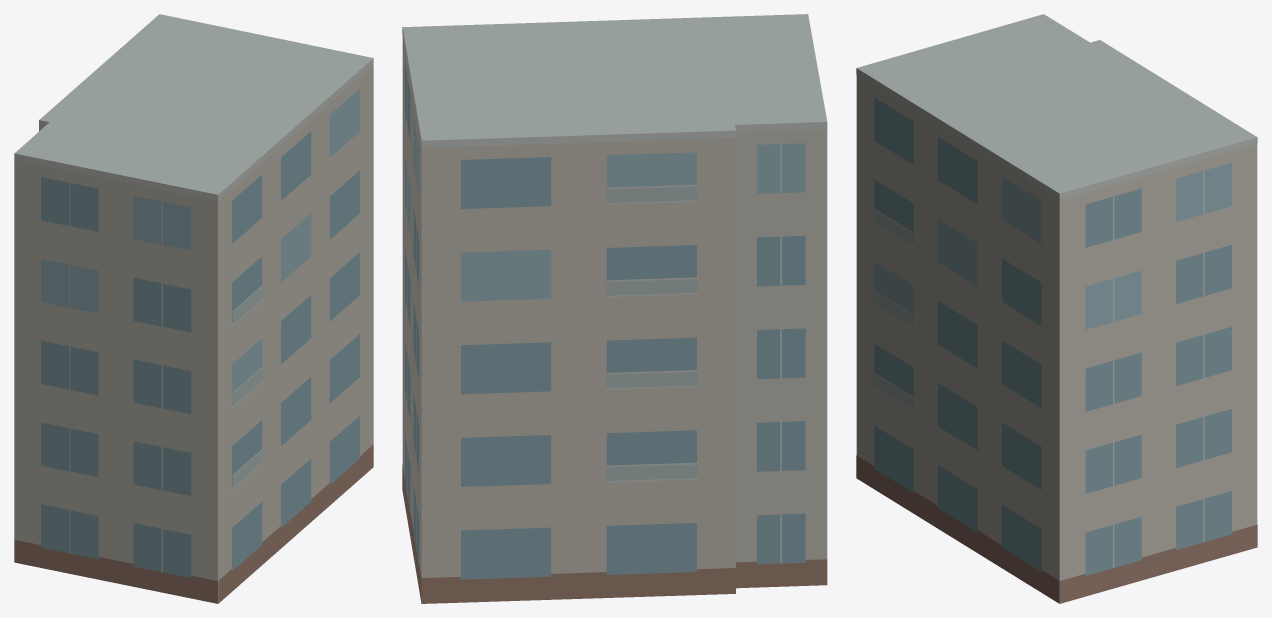
Rendered from survey-upis-32591514.glb.
The picture shows the model from 3 angles, left to right: view 1: azimuth 30°, elevation 25°; view 2: azimuth 150°, elevation 25°; view 3: azimuth 270°, elevation 25°; orthographic projection. The views are drawn at different scales.
Visible parts, largest first — view 1: survey-upis-32591514.tmp; view 2: survey-upis-32591514.tmp; view 3: survey-upis-32591514.tmp.
Boxes of the visible parts, x1,y1,x2,y2 form: survey-upis-32591514.tmp: (14,14,373,603); survey-upis-32591514.tmp: (402,14,827,603); survey-upis-32591514.tmp: (856,14,1257,603).
Bounding box in the file's own units: 14.52 × 15.45 × 13.7.
